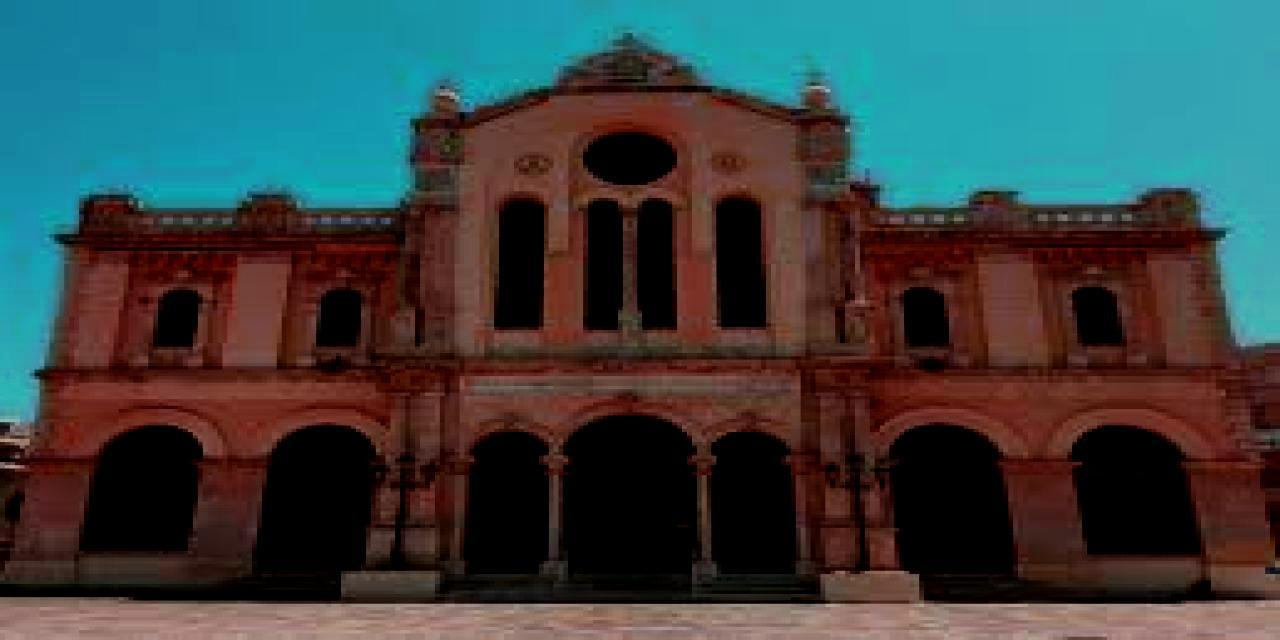Agios Minas: (1, 29, 1280, 596)
